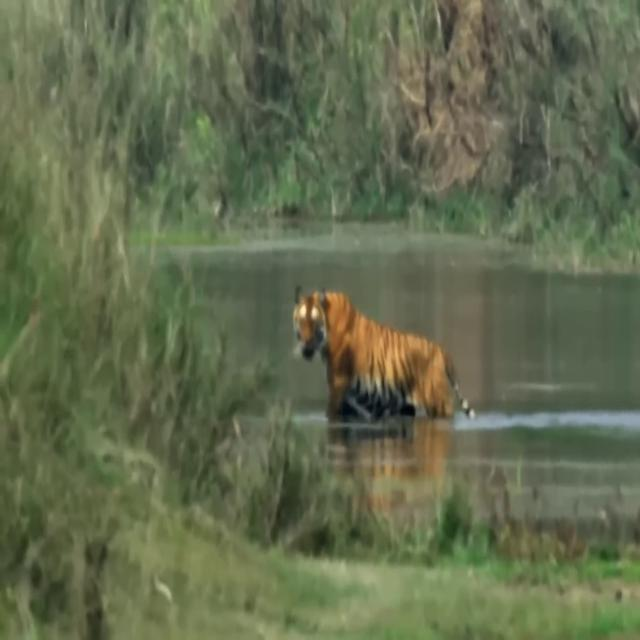tiger: (294, 286, 476, 422)
